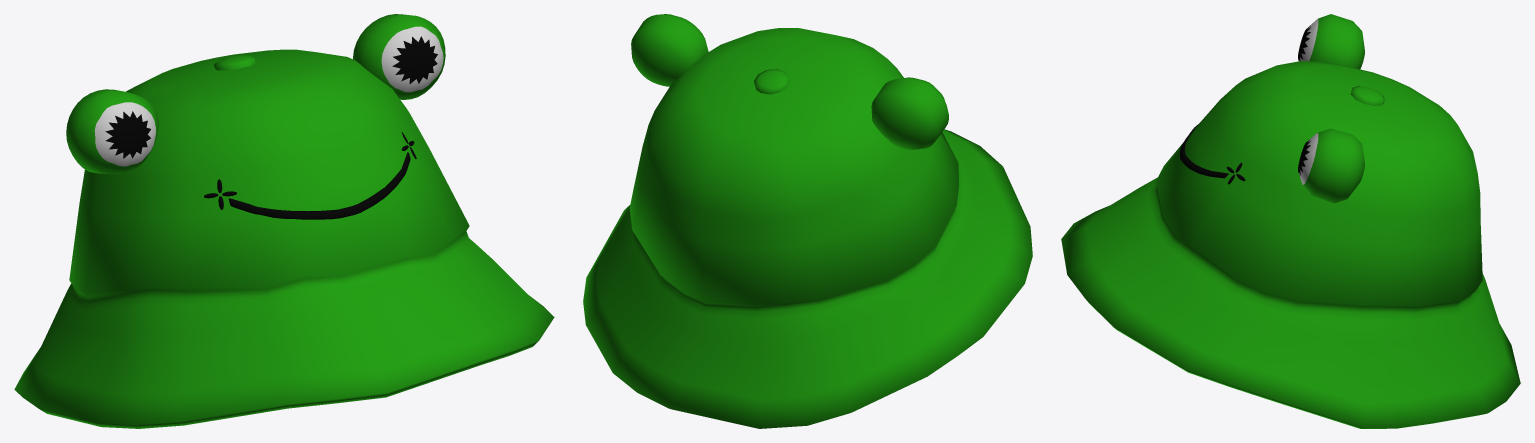
The picture shows the model from 3 angles, left to right: view 1: azimuth 30°, elevation 25°; view 2: azimuth 150°, elevation 25°; view 3: azimuth 270°, elevation 25°; orthographic projection. The views are drawn at different scales.
Parts seen in each view (by area): view 1: frogHat; view 2: frogHat; view 3: frogHat.
Part boxes in pixels (x1,y1,x2,y2): frogHat: (14, 14, 554, 428); frogHat: (583, 14, 1032, 428); frogHat: (1061, 14, 1520, 428).
Bounding box in the file's own units: 0.5941 × 0.4533 × 0.6218.
Materials: 2 (2 with a texture image).
